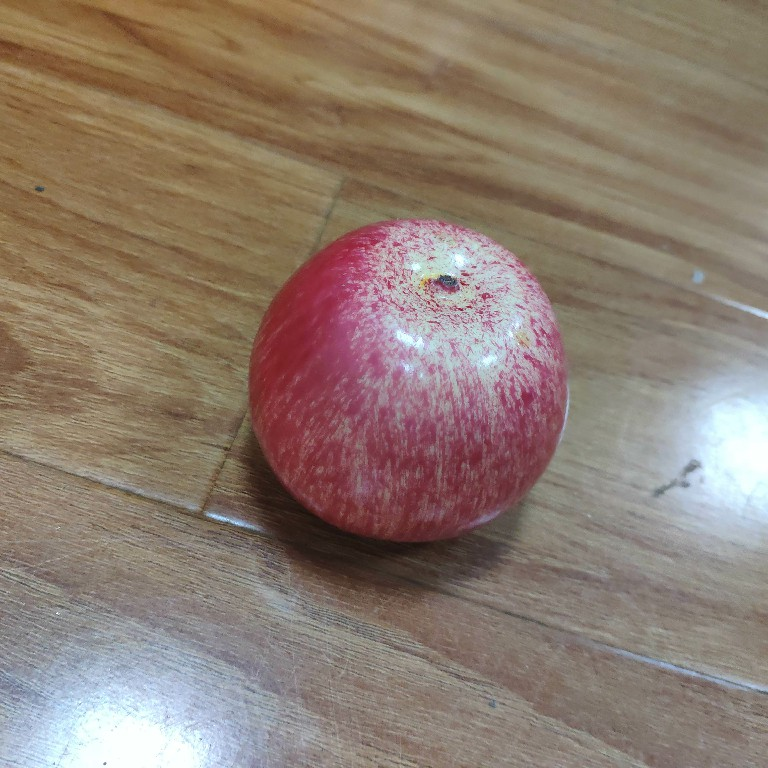fruit_apple: (242, 213, 579, 550)
